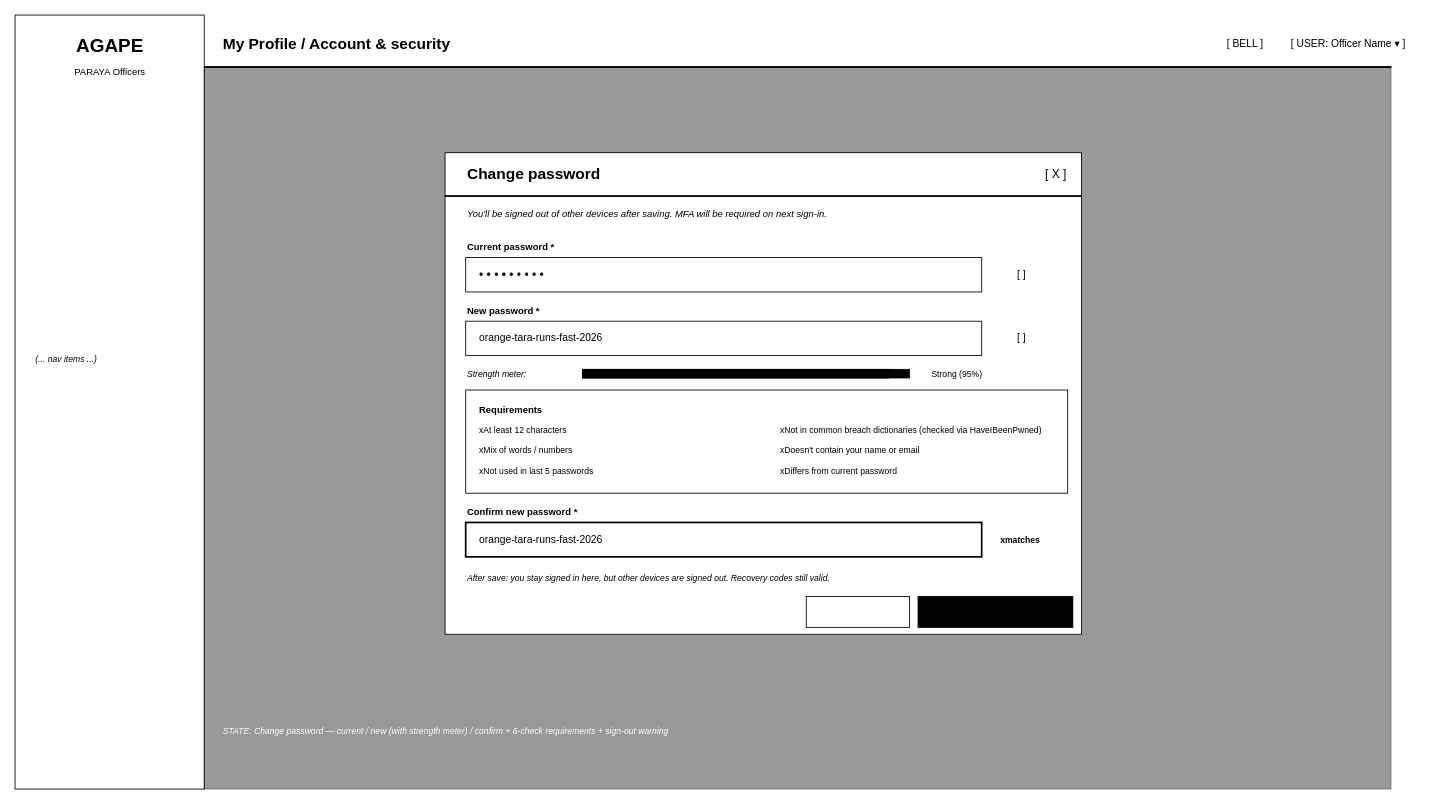
The diagram is 1441 pixels wide and 804 high, and some of its shapes have lost their labels. The shapes that lost their labels are listed below. From the top down, each one's centre as x and y in pixels, then its label:
At point 857,611: "[ Cancel ]".
At point 995,611: "[ Change password ]".
